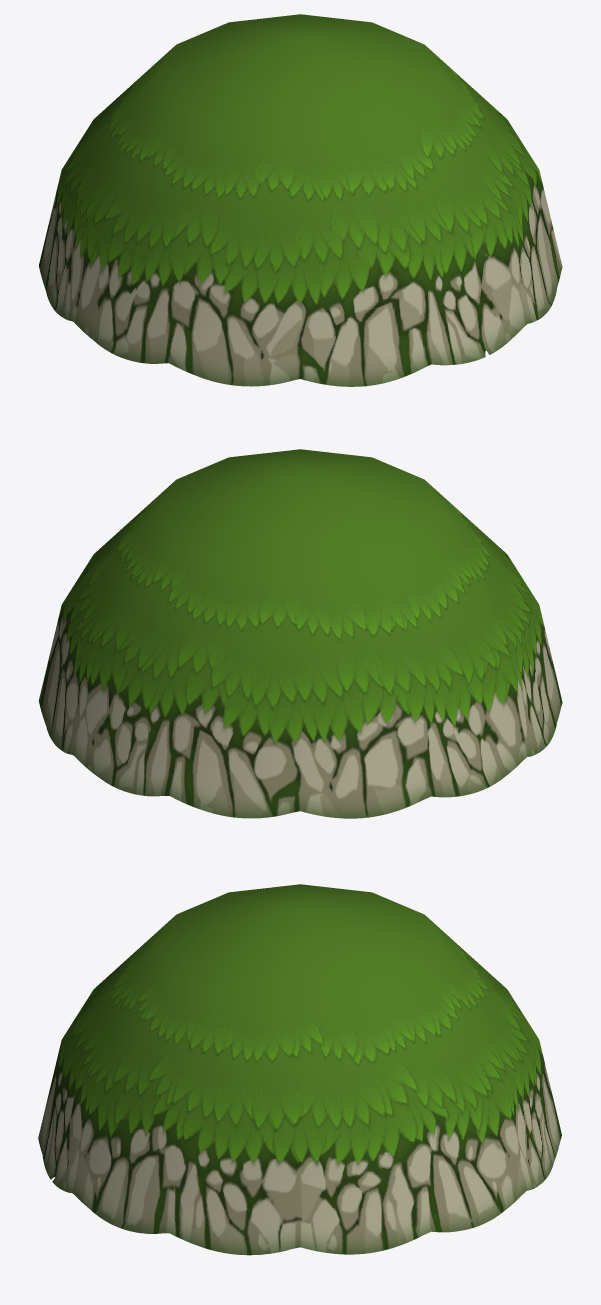
The model's file is Hill_03.FBX.
3 renders of one model, top to bottom at view 1: azimuth 30°, elevation 25°; view 2: azimuth 150°, elevation 25°; view 3: azimuth 270°, elevation 25°, orthographic.
Parts seen in each view (by area): view 1: Hill_03; view 2: Hill_03; view 3: Hill_03.
Part boxes in pixels (box(x1,y1,x2,y2)): Hill_03: box(39, 14, 562, 386); Hill_03: box(39, 449, 562, 818); Hill_03: box(38, 884, 561, 1255).
Bounding box in the file's own units: 178 × 88.87 × 178.
Materials: 1 (1 with a texture image).
